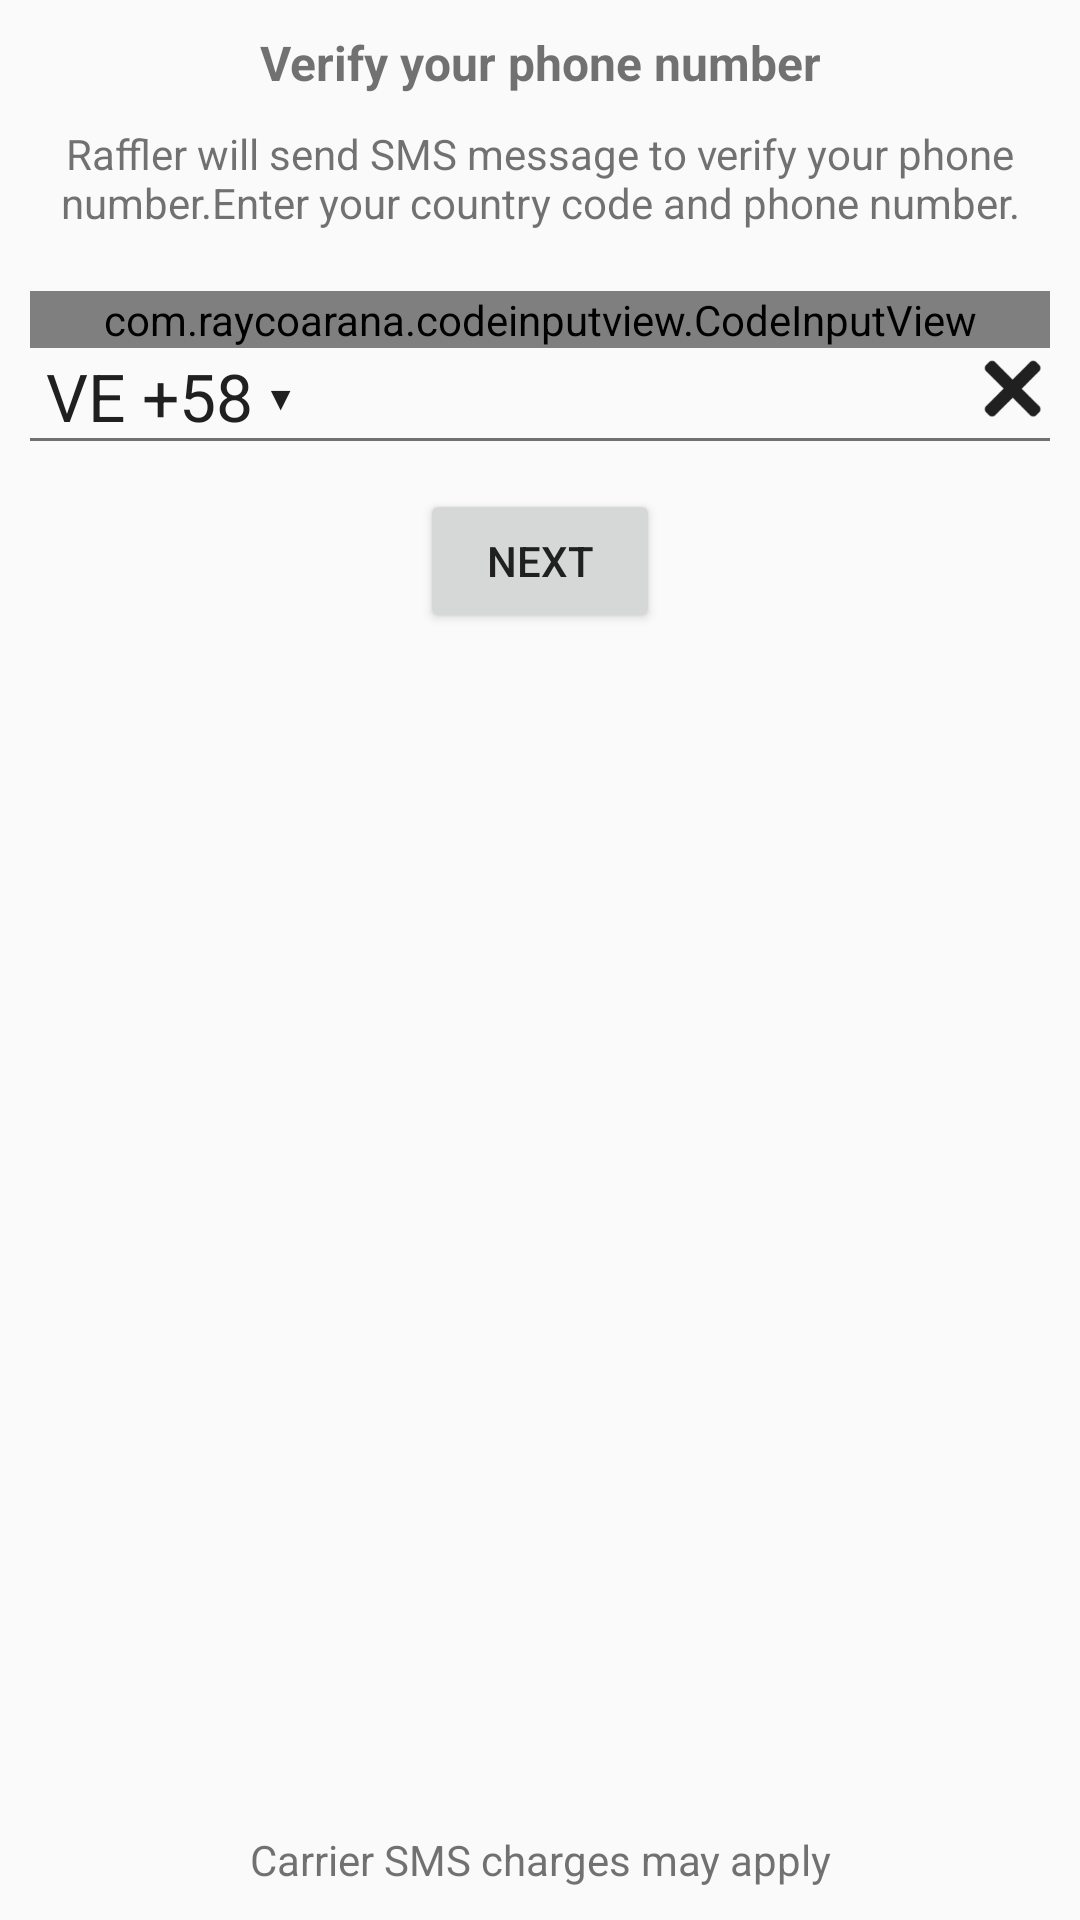

Icon click points for this 1080w x 1920h phone screenshot, format point (x, y):
false: point (1012, 388)
